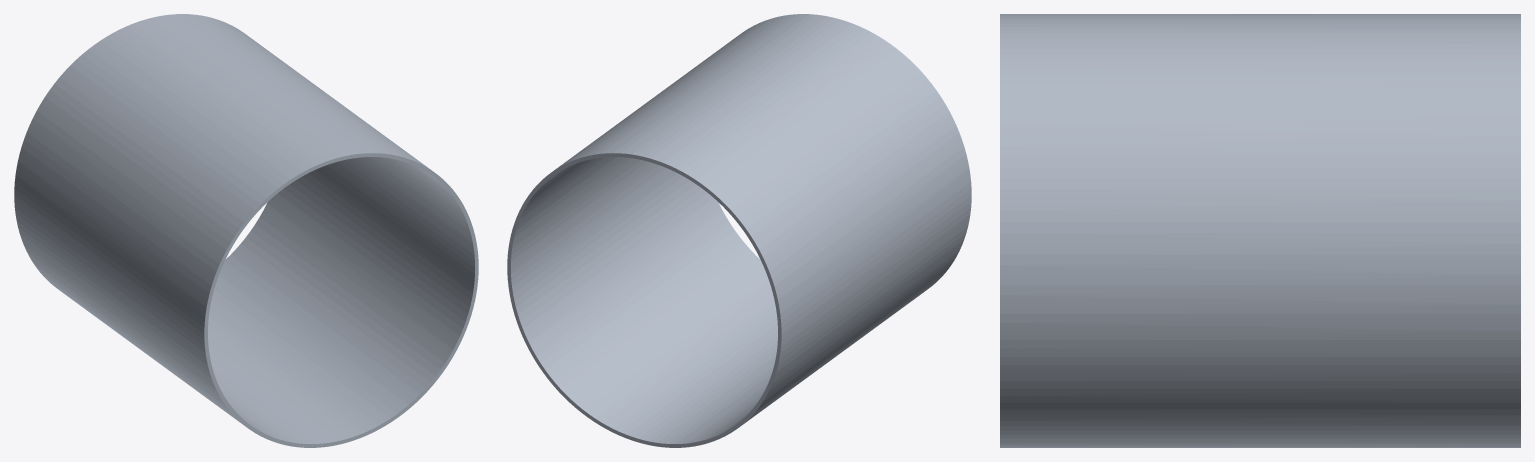
3 renders of one model, left to right at view 1: azimuth 30°, elevation 25°; view 2: azimuth 150°, elevation 25°; view 3: azimuth 270°, elevation 25°, orthographic. The views are drawn at different scales.
Parts seen in each view (by area): view 1: tube saved shape; view 2: tube saved shape; view 3: tube saved shape.
Boxes of the visible parts, x1,y1,x2,y2 form: tube saved shape: (14,14,478,447); tube saved shape: (507,14,971,447); tube saved shape: (1000,14,1520,447).
Size of the model in its own units: 127 by 127 by 152.
